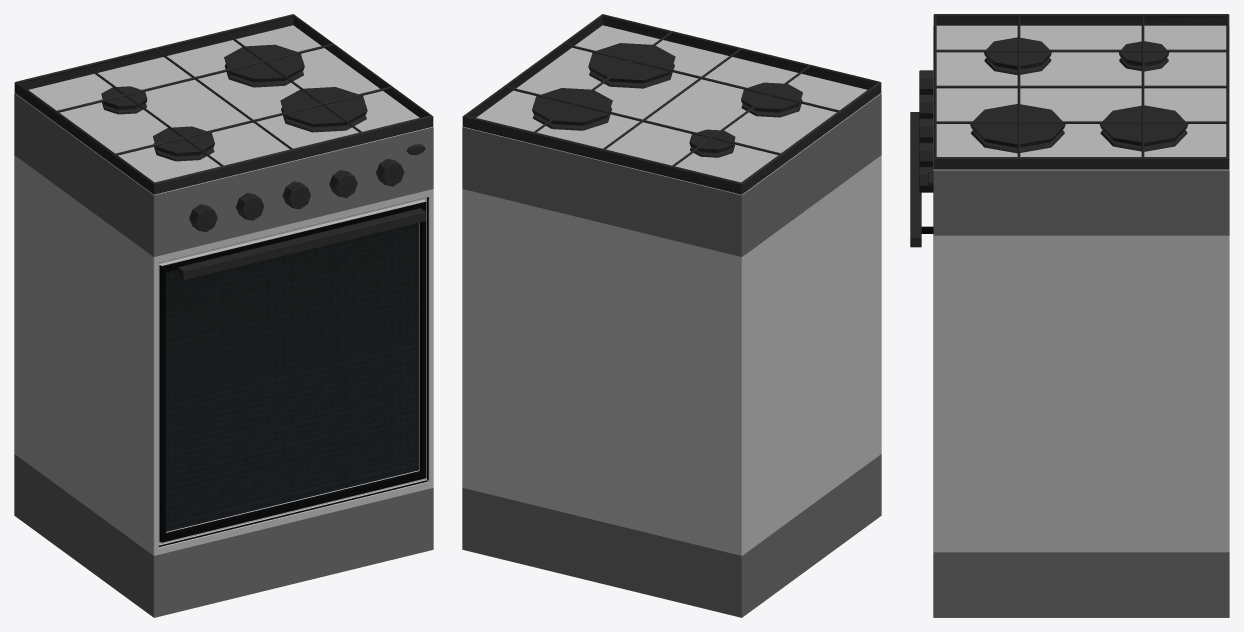
The model's file is GasStove.fbx.
3 views of the same model, side by side, from view 1: azimuth 30°, elevation 25°; view 2: azimuth 150°, elevation 25°; view 3: azimuth 270°, elevation 25° (orthographic). The views are drawn at different scales.
Parts seen in each view (by area): view 1: Gas-stove; view 2: Gas-stove; view 3: Gas-stove.
Boxes of the visible parts, x1,y1,x2,y2 form: Gas-stove: (14, 14, 433, 617); Gas-stove: (462, 14, 881, 617); Gas-stove: (910, 14, 1229, 617).
Bounding box in the file's own units: 60 × 88.93 × 55.93.
